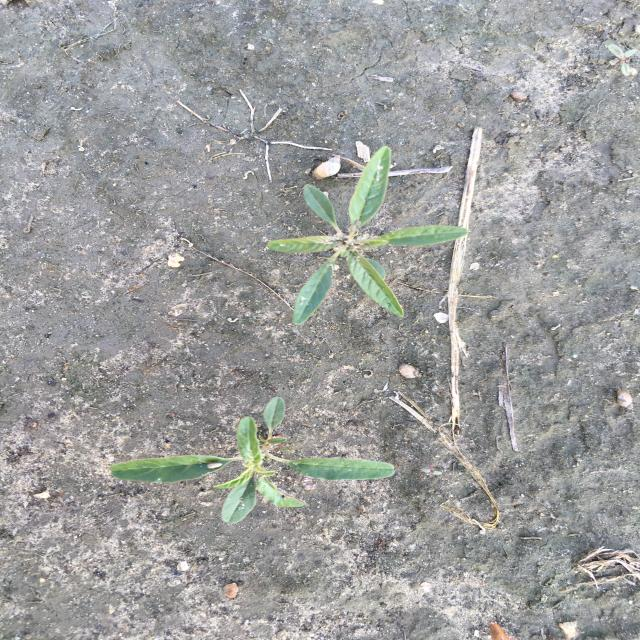Waterhemp: (106, 396, 397, 525), (265, 146, 470, 327)
